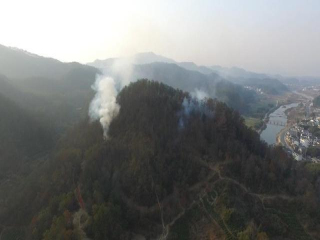smoke: (88, 57, 138, 142), (178, 86, 217, 131)
